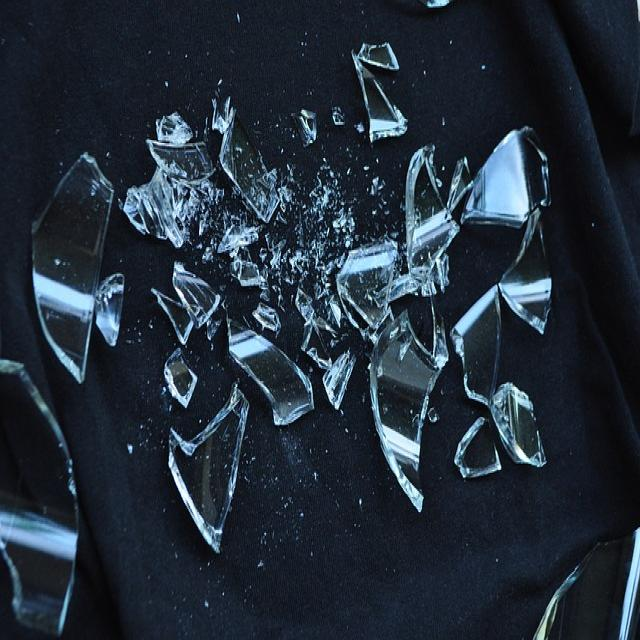PecahanKaca: (349, 41, 560, 516), (124, 96, 350, 419), (0, 358, 84, 635), (26, 145, 106, 378), (166, 386, 249, 550)
